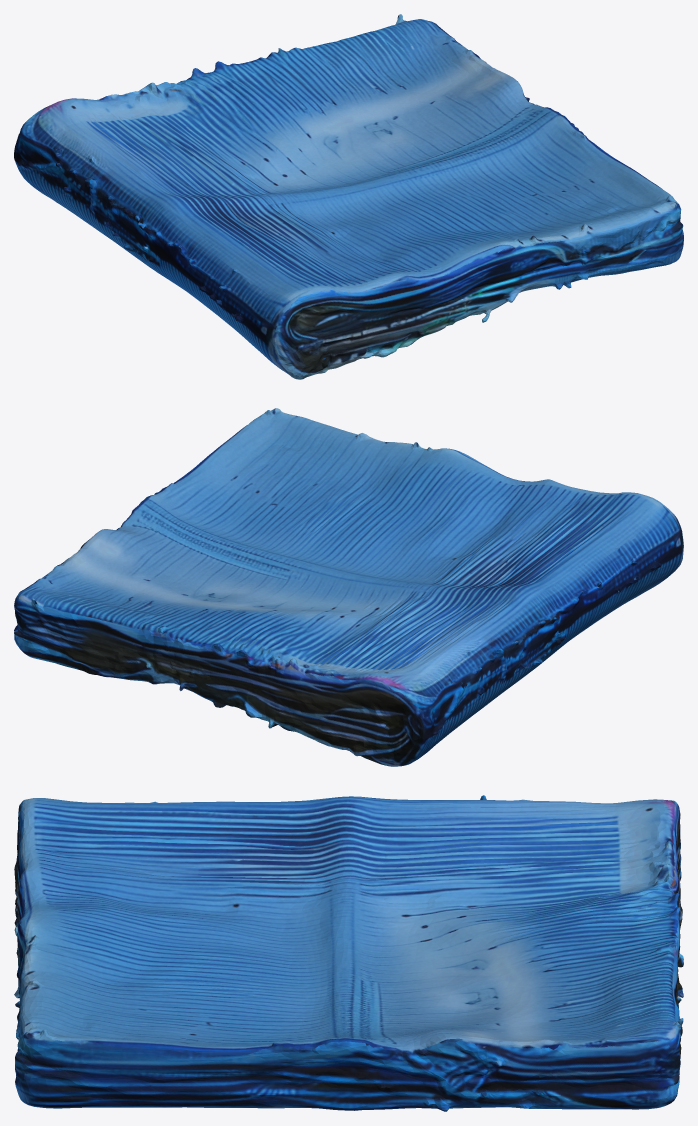
Rendered from image_0002_segmented.glb.
3 renders of one model, top to bottom at view 1: azimuth 30°, elevation 25°; view 2: azimuth 150°, elevation 25°; view 3: azimuth 270°, elevation 25°, orthographic. The views are drawn at different scales.
Visible parts, largest first — view 1: tmpqpyivn7a.ply; view 2: tmpqpyivn7a.ply; view 3: tmpqpyivn7a.ply.
Boxes of the visible parts, x1,y1,x2,y2 form: tmpqpyivn7a.ply: [14, 14, 683, 379]; tmpqpyivn7a.ply: [14, 408, 683, 766]; tmpqpyivn7a.ply: [14, 795, 683, 1111].
Size of the model in its own units: 1.87 by 0.3736 by 1.99.
1 material, 1 textured.
